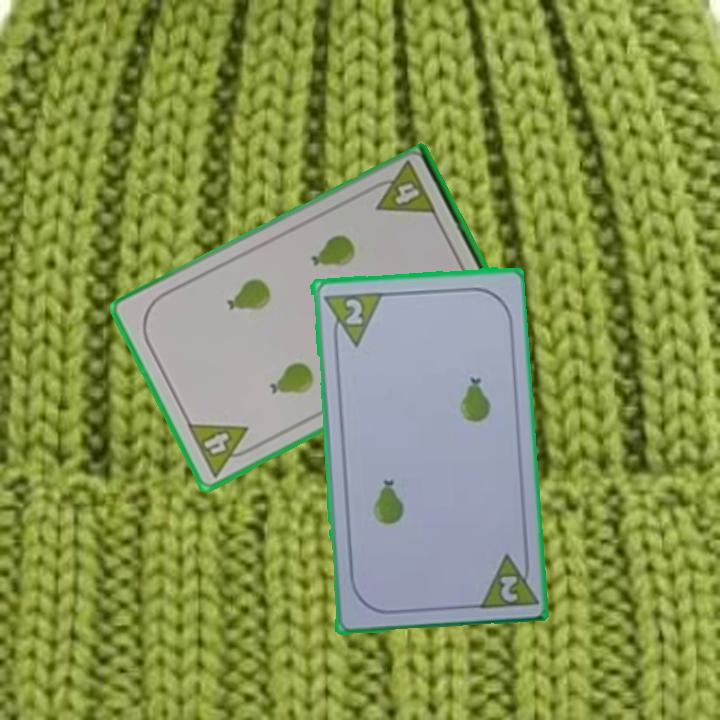2p: (473, 548, 538, 612), (319, 288, 384, 350)
4p: (183, 420, 260, 480), (364, 159, 440, 219)
